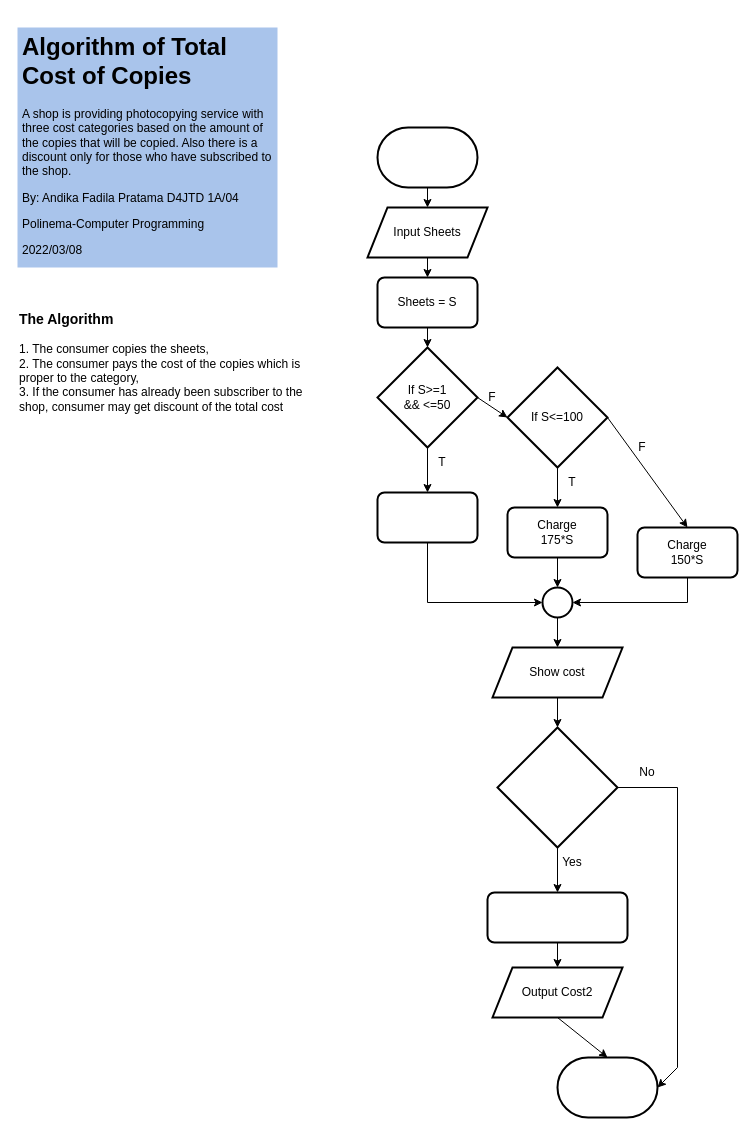
This 755x1135 diagram has some shape labels left out. Here are the shapes that lost their labels. From the top down, the centre of each, then its label:
the point at 427,157: Start
the point at 427,517: Charge 200*S
the point at 557,787: Do you have the subcription ID?
the point at 557,917: Cost2 = cost - 5%*cost
the point at 607,1087: Pay it
